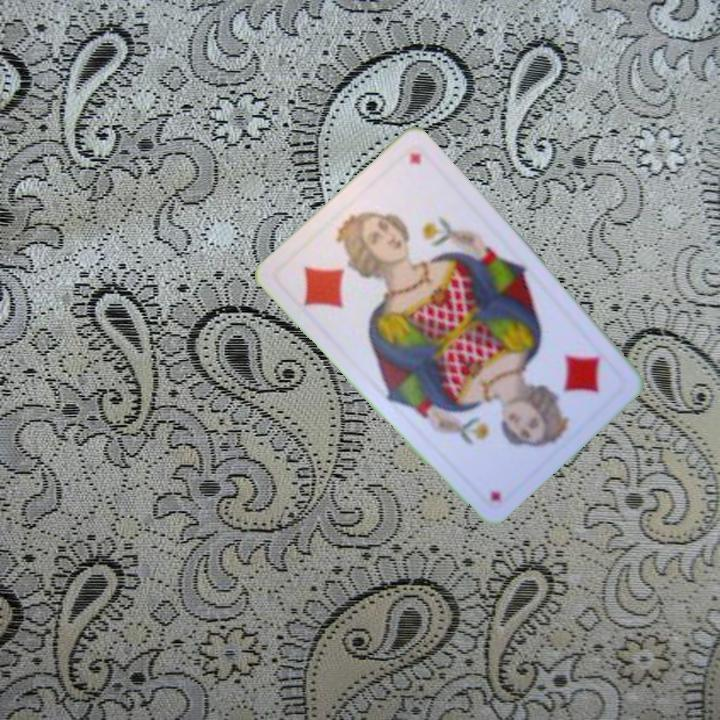d_q.png: (501, 318, 631, 447), (272, 208, 402, 337)
